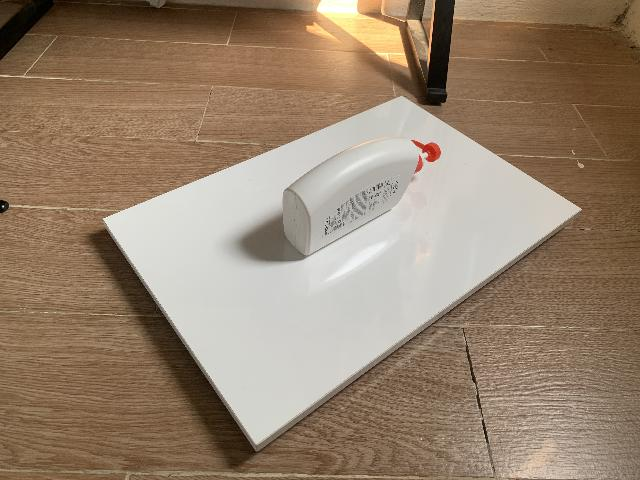life-buoy: (282, 137, 441, 256)
